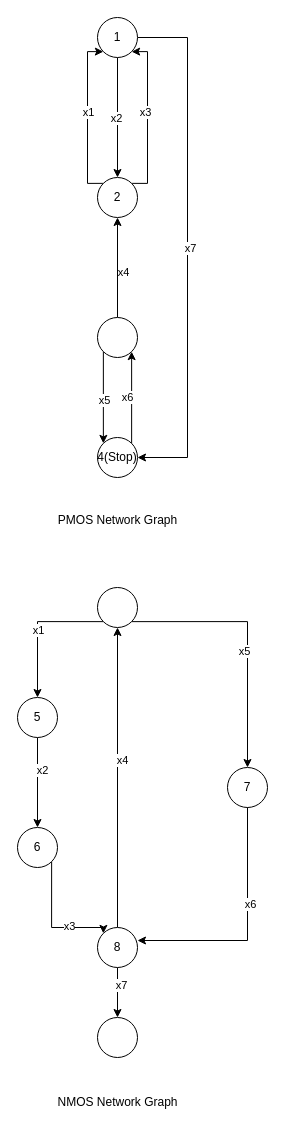
Some shapes in this 285 by 1135 pixel diagram are drawn without their labels. The box of each missing label's shape, as (x1, y1, x2, y2) in pixels:
3(Start): (96, 316, 138, 358)
4(Start): (96, 586, 138, 628)
9(stop): (96, 1016, 138, 1058)
